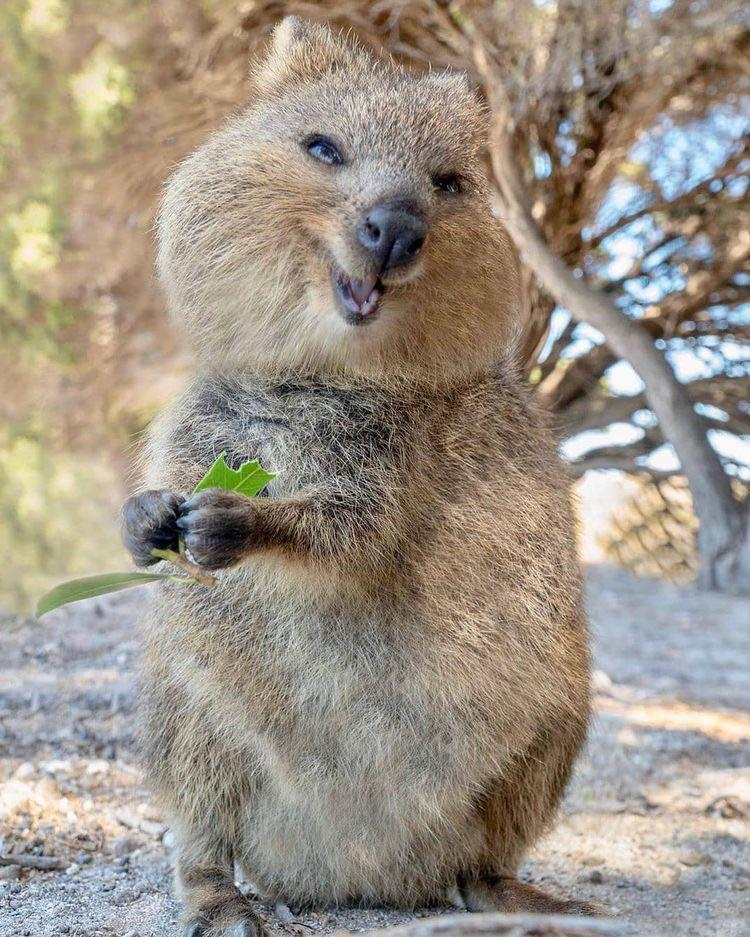quokka: (79, 15, 603, 937)
